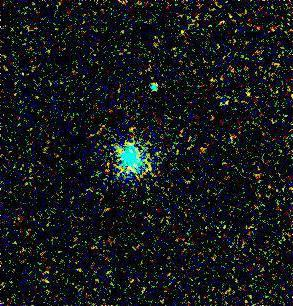star: (111, 113, 141, 143)
